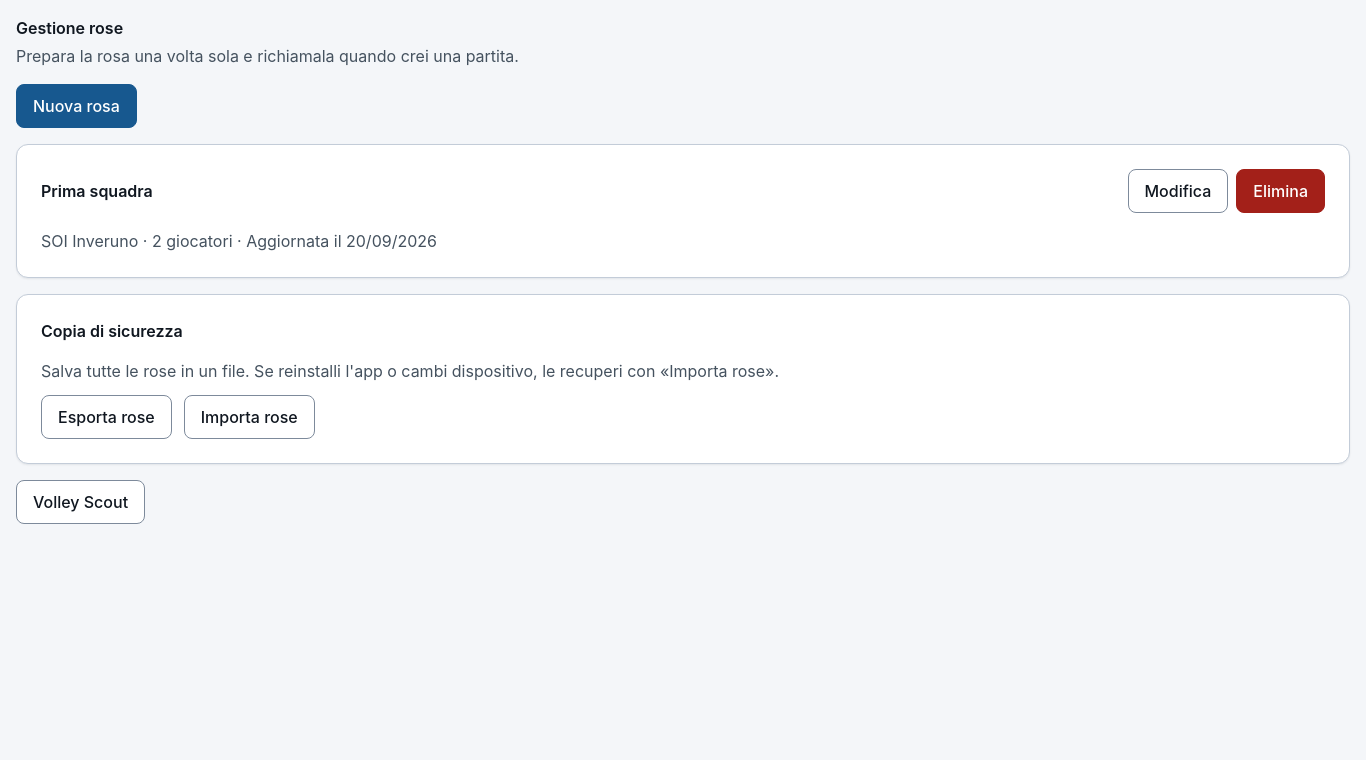
Test case: RosterManagerPage › lists a saved roster and opens it for editing
Expected: the heading "Prima squadra" is shown, [41,179,153,203]
Expected: the text "SOI Inveruno · 2 giocatori · Aggiornata il 20/09/2026" is shown, [41,231,437,251]
Step 1. Click the button "Modifica" → [1178, 191], box [1128,169,1228,213]
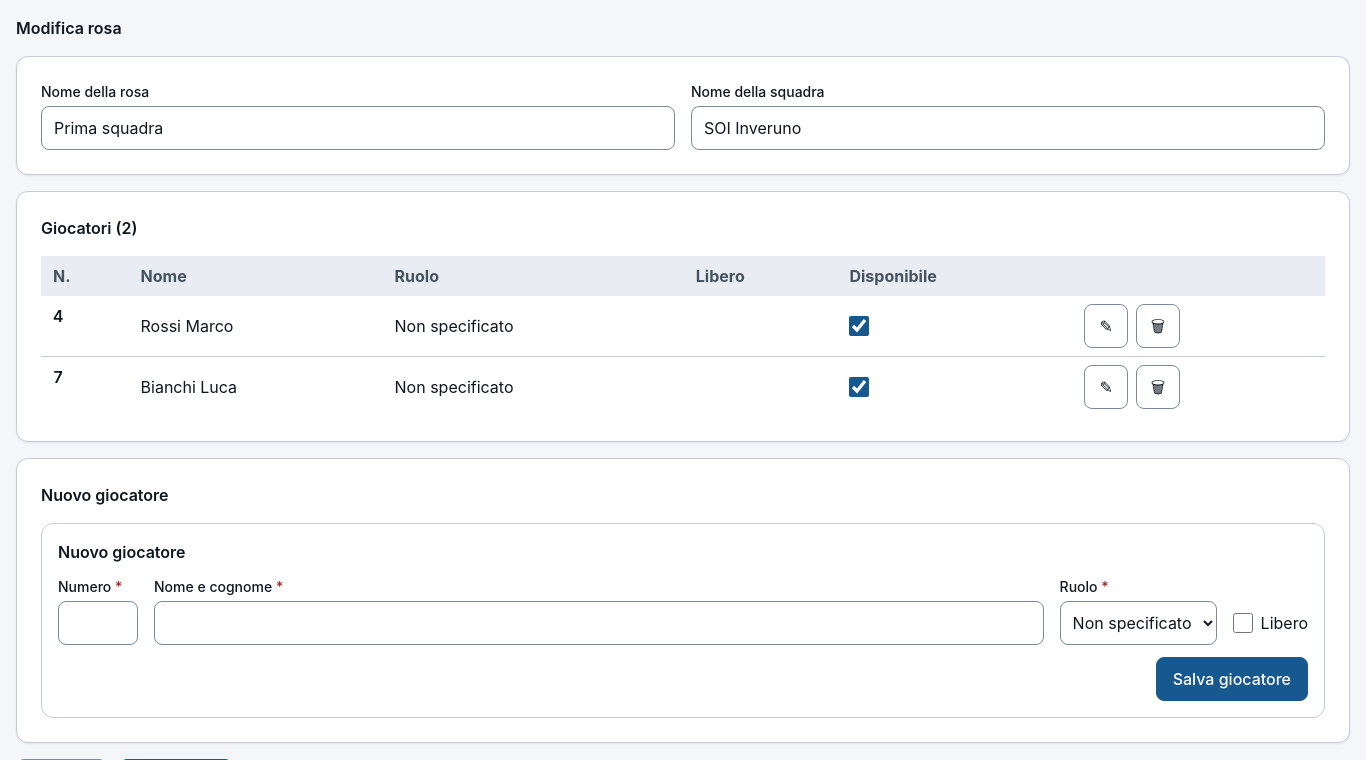
Expected: the field labelled "Nome della rosa" holds "Prima squadra", [41,106,675,150]
Expected: the text "Rossi Marco" is shown, [128,296,382,356]
